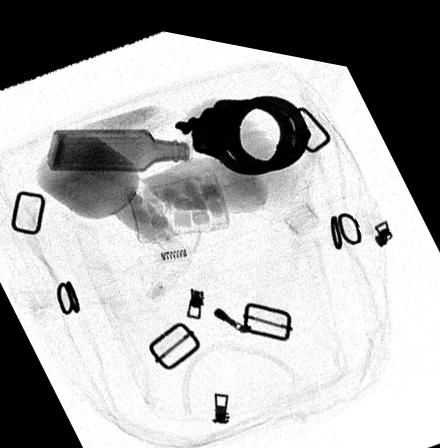HandCuffs: (175, 84, 312, 165)
